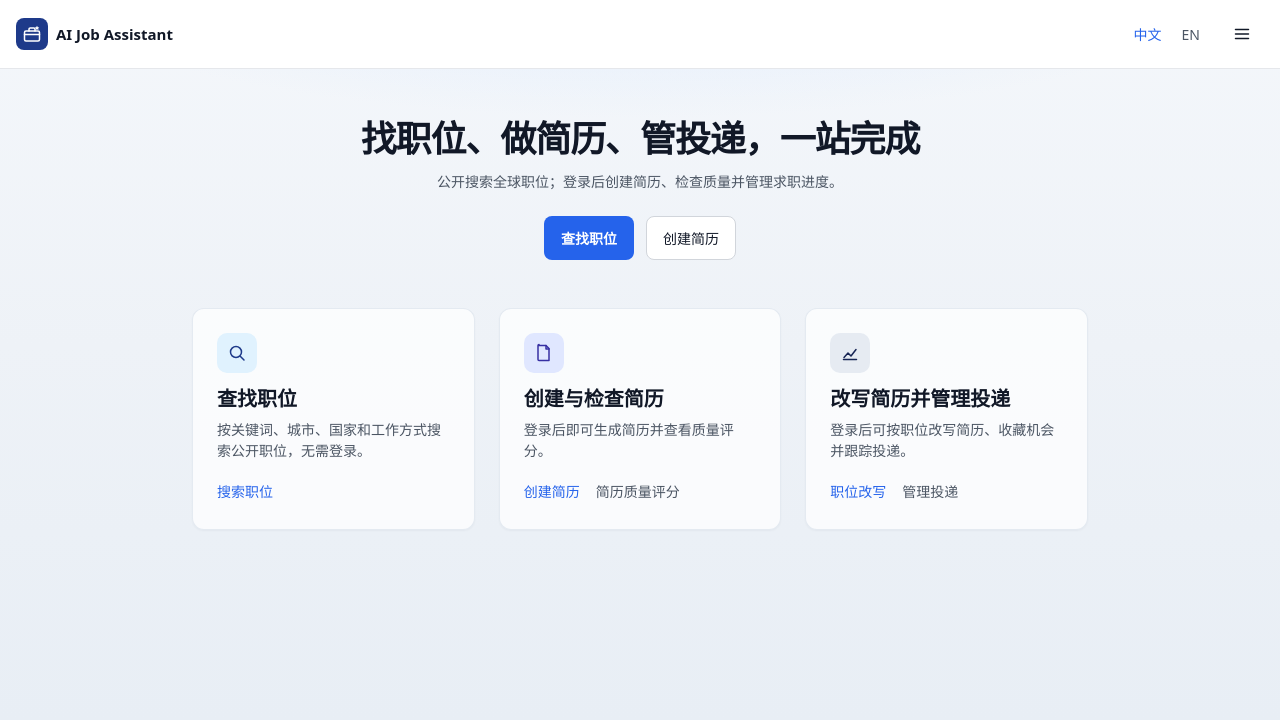
Test: design preview (DEV prototype) › uses a hamburger menu at compact widths without wrapping desktop nav
The width and height of the screenshot is (1280, 720).
Click the button named "打开菜单".
click(1242, 34)  # box [1220,12,1264,56]
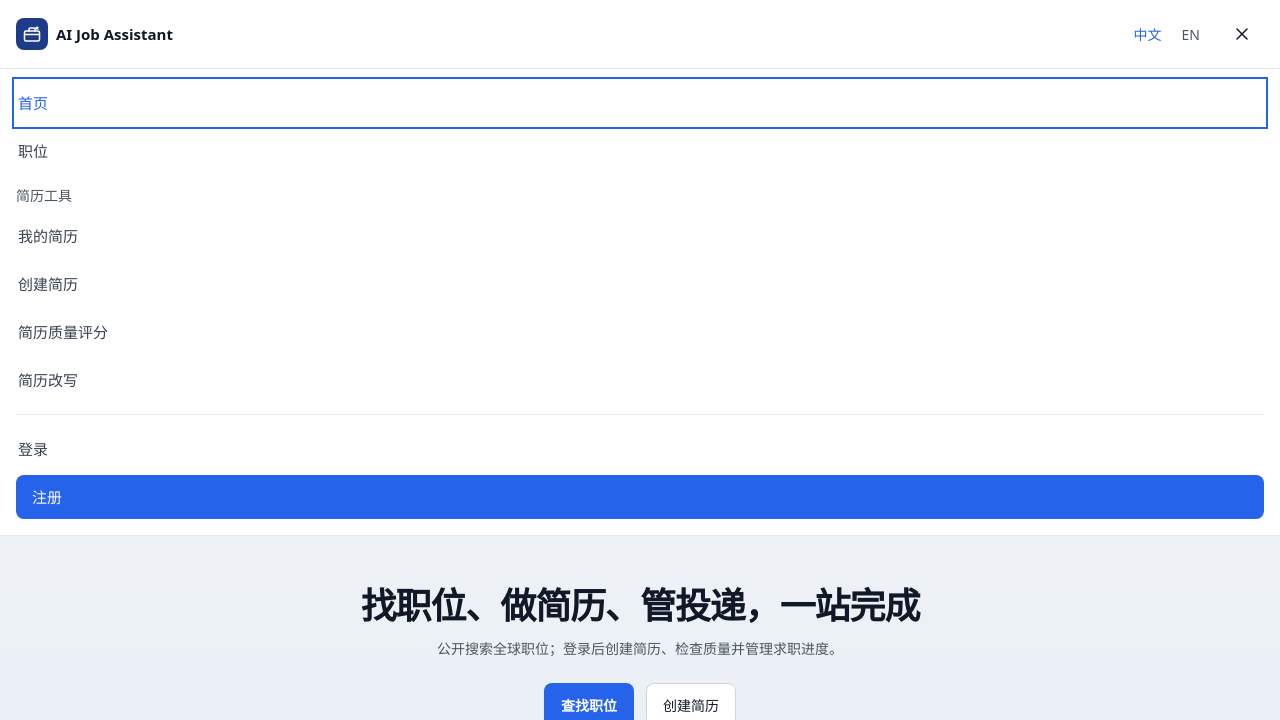
Expected: the link "首页" is shown, [18,93,48,113]
Expected: the link "简历改写" is shown, [16,358,1264,402]
Expected: the link "登录" is shown, [16,427,1264,471]
Press Escape
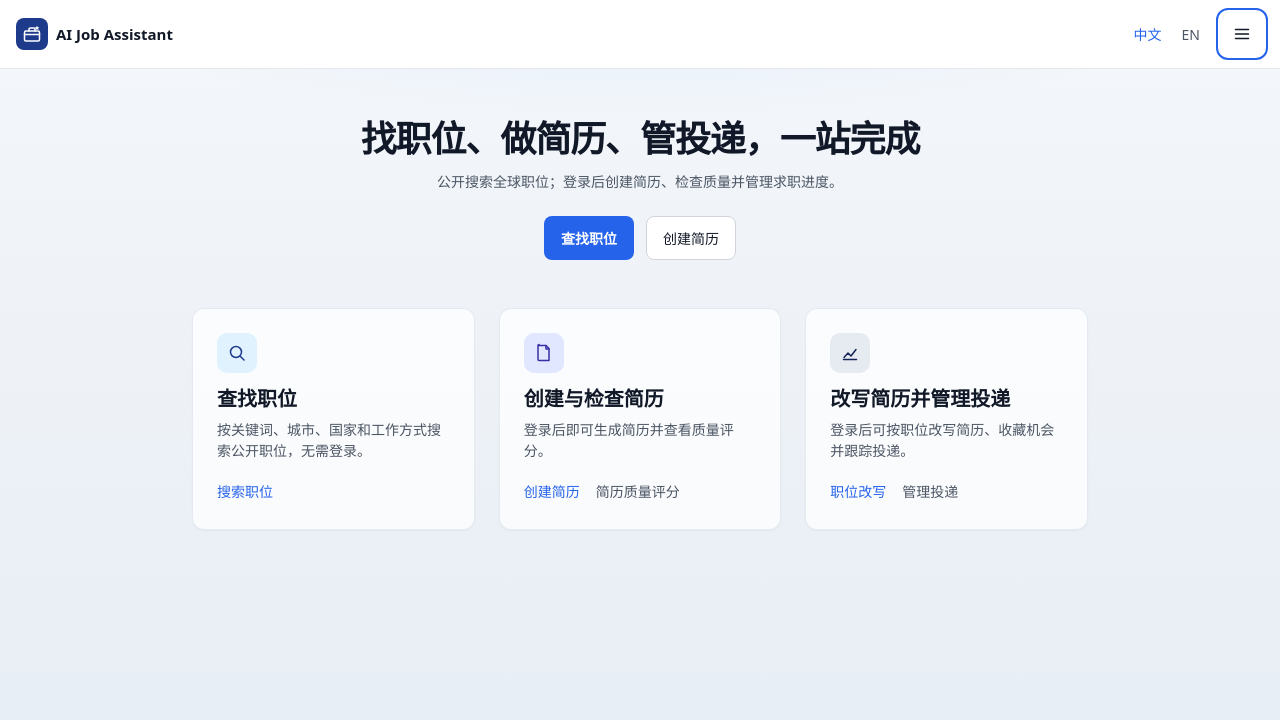
Expected: the navigation bar "网站菜单" is gone
